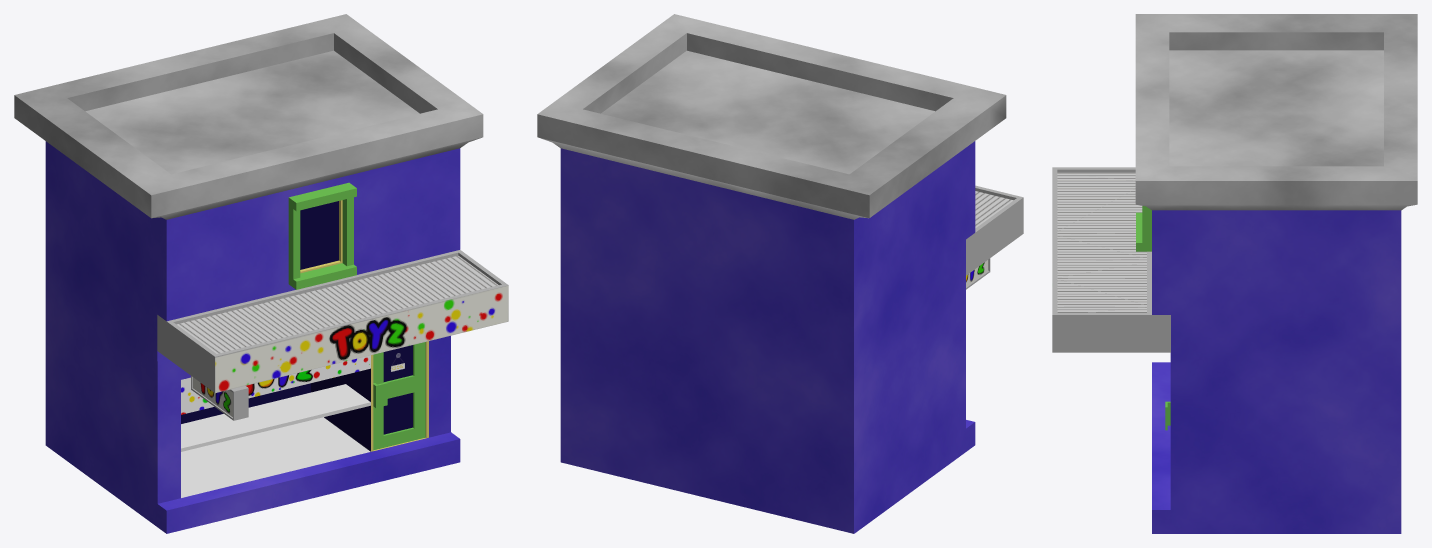
Rendered from ToyBuilding.FBX.
3 views of the same model, side by side, from view 1: azimuth 30°, elevation 25°; view 2: azimuth 150°, elevation 25°; view 3: azimuth 270°, elevation 25° (orthographic). The views are drawn at different scales.
Visible parts, largest first — view 1: Box001, Box003, mirror, Box002; view 2: Box001; view 3: Box001.
Boxes of the visible parts, x1,y1,x2,y2 form: Box001: (14,14,508,533); Box003: (181,384,370,451); mirror: (181,355,370,414); Box002: (191,376,248,420); Box001: (537,14,1023,533); Box001: (1052,14,1417,533).
Bounding box in the file's own units: 624 × 628 × 577.
Materials: 4 (4 with a texture image).
